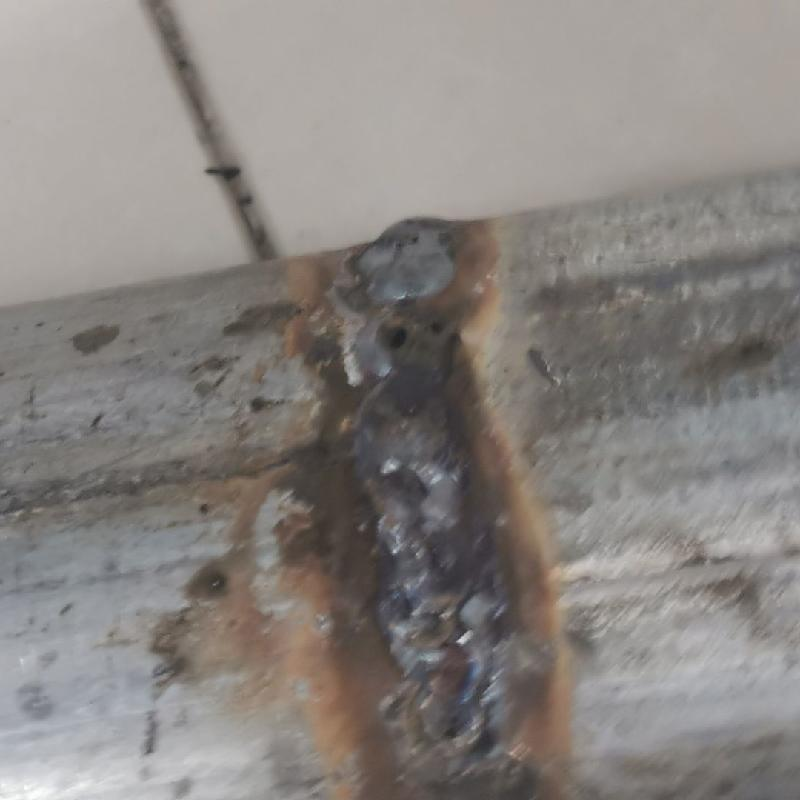Surface_pores: (349, 319, 432, 364)
crater: (361, 454, 513, 758)
wrong_size: (353, 206, 457, 310)
